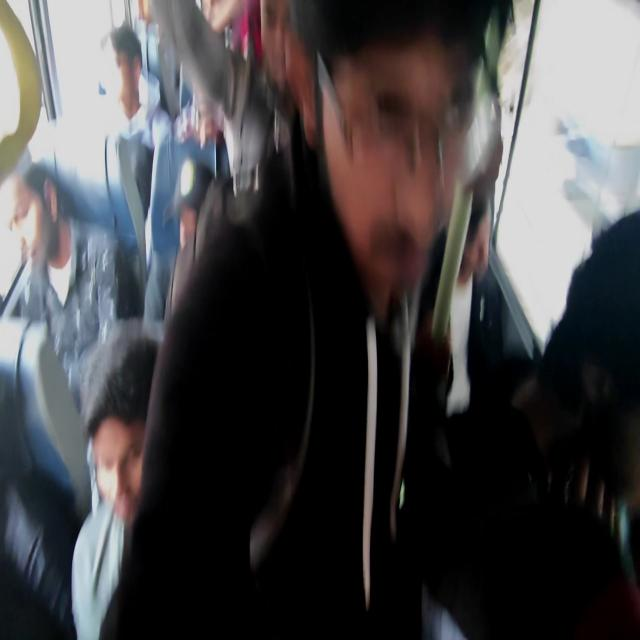person: (293, 9, 470, 299), (545, 254, 640, 640), (72, 337, 183, 531), (2, 172, 86, 328), (167, 165, 243, 293), (452, 182, 501, 312), (257, 0, 314, 106), (101, 27, 151, 129), (186, 70, 232, 133), (196, 0, 232, 45), (131, 0, 169, 39)
